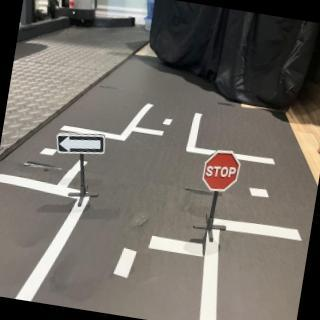sign_oneway_left: (56, 128, 109, 162)
sign_stop: (203, 150, 243, 195)
